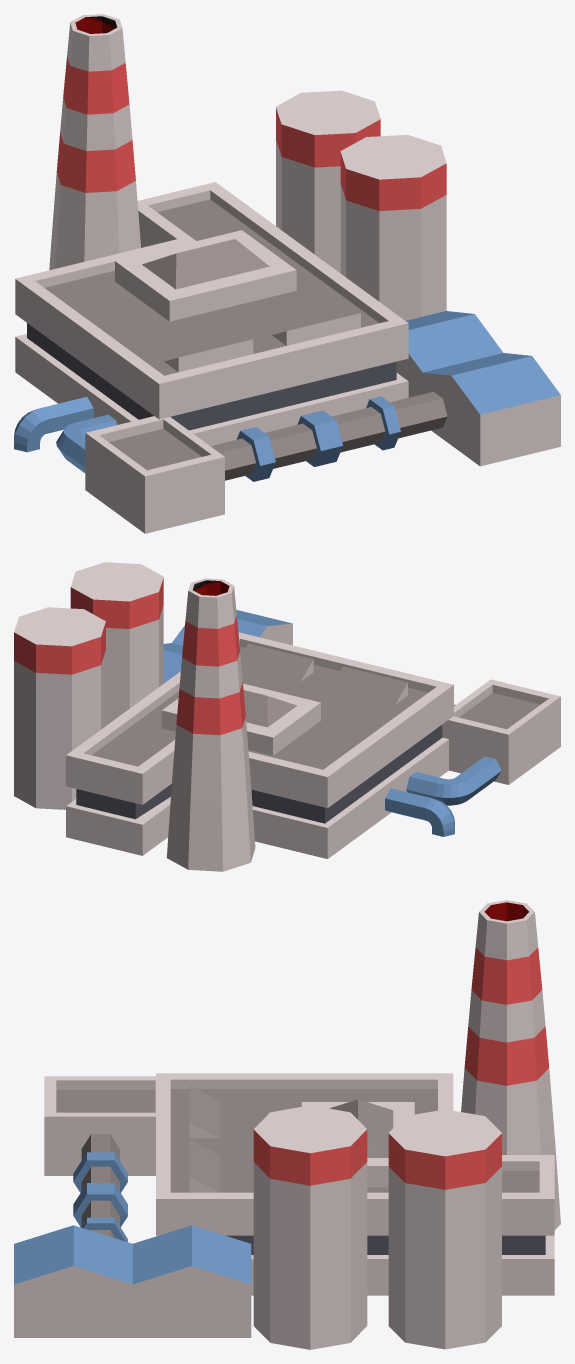
The model's file is Factory_0925.fbx.
3 views of the same model, one above another, from view 1: azimuth 30°, elevation 25°; view 2: azimuth 150°, elevation 25°; view 3: azimuth 270°, elevation 25° (orthographic). The views are drawn at different scales.
Visible parts, largest first — view 1: Factory; view 2: Factory; view 3: Factory.
Boxes of the visible parts, <box> form: Factory: <box>14,14,560,533</box>; Factory: <box>14,562,560,871</box>; Factory: <box>14,900,560,1349</box>.
Size of the model in its own units: 86.21 by 91.93 by 59.08.
